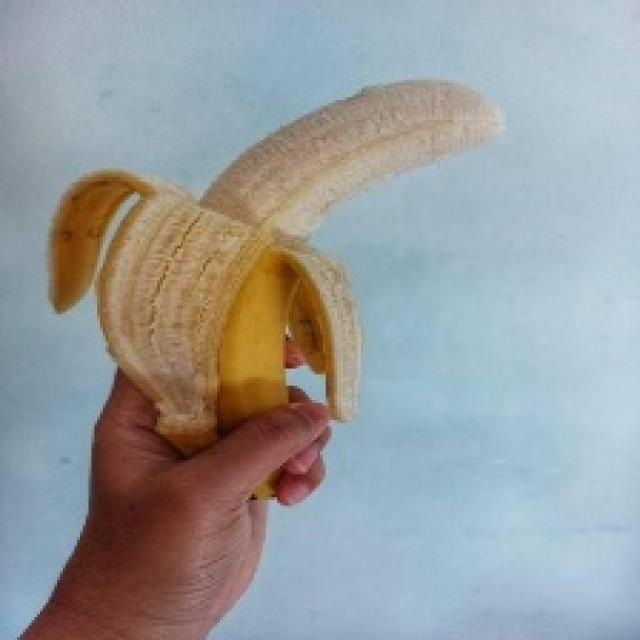Banana: (46, 74, 503, 500)
